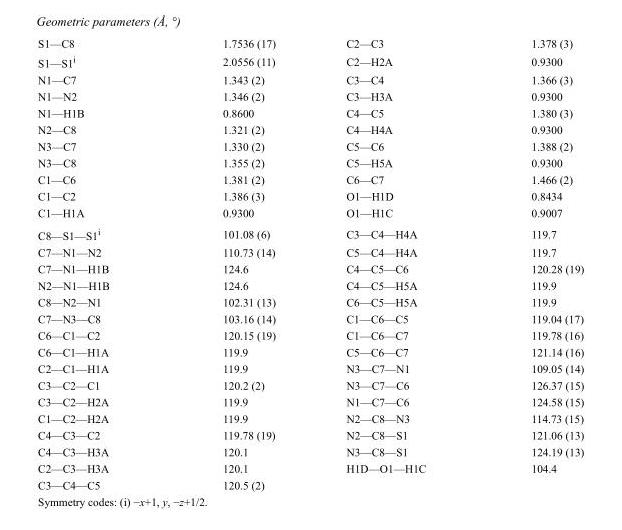table: (37, 36, 583, 490)
table column: (310, 36, 477, 490), (165, 36, 310, 490), (37, 36, 165, 490), (477, 36, 583, 490)
table row: (37, 222, 583, 243), (37, 51, 583, 71), (37, 204, 583, 222), (37, 87, 583, 104), (37, 120, 583, 137), (37, 137, 583, 154), (37, 170, 583, 187), (37, 187, 583, 204), (37, 243, 583, 260), (37, 276, 583, 293), (37, 293, 583, 310), (37, 326, 583, 343), (37, 359, 583, 376), (37, 376, 583, 393), (37, 409, 583, 426), (37, 426, 583, 443), (37, 459, 583, 476), (37, 71, 583, 87), (37, 104, 583, 120), (37, 154, 583, 170), (37, 260, 583, 276), (37, 310, 583, 326), (37, 343, 583, 359), (37, 393, 583, 409), (37, 443, 583, 459), (37, 36, 583, 51), (37, 476, 583, 490)
